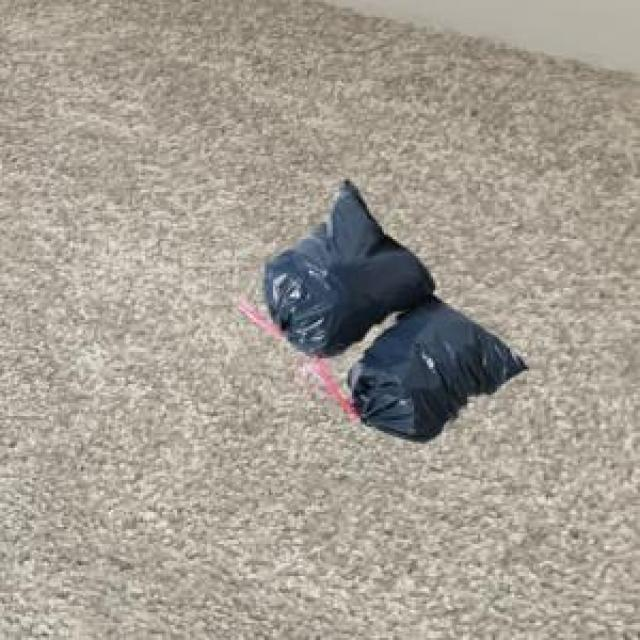waste: (265, 180, 526, 441)
